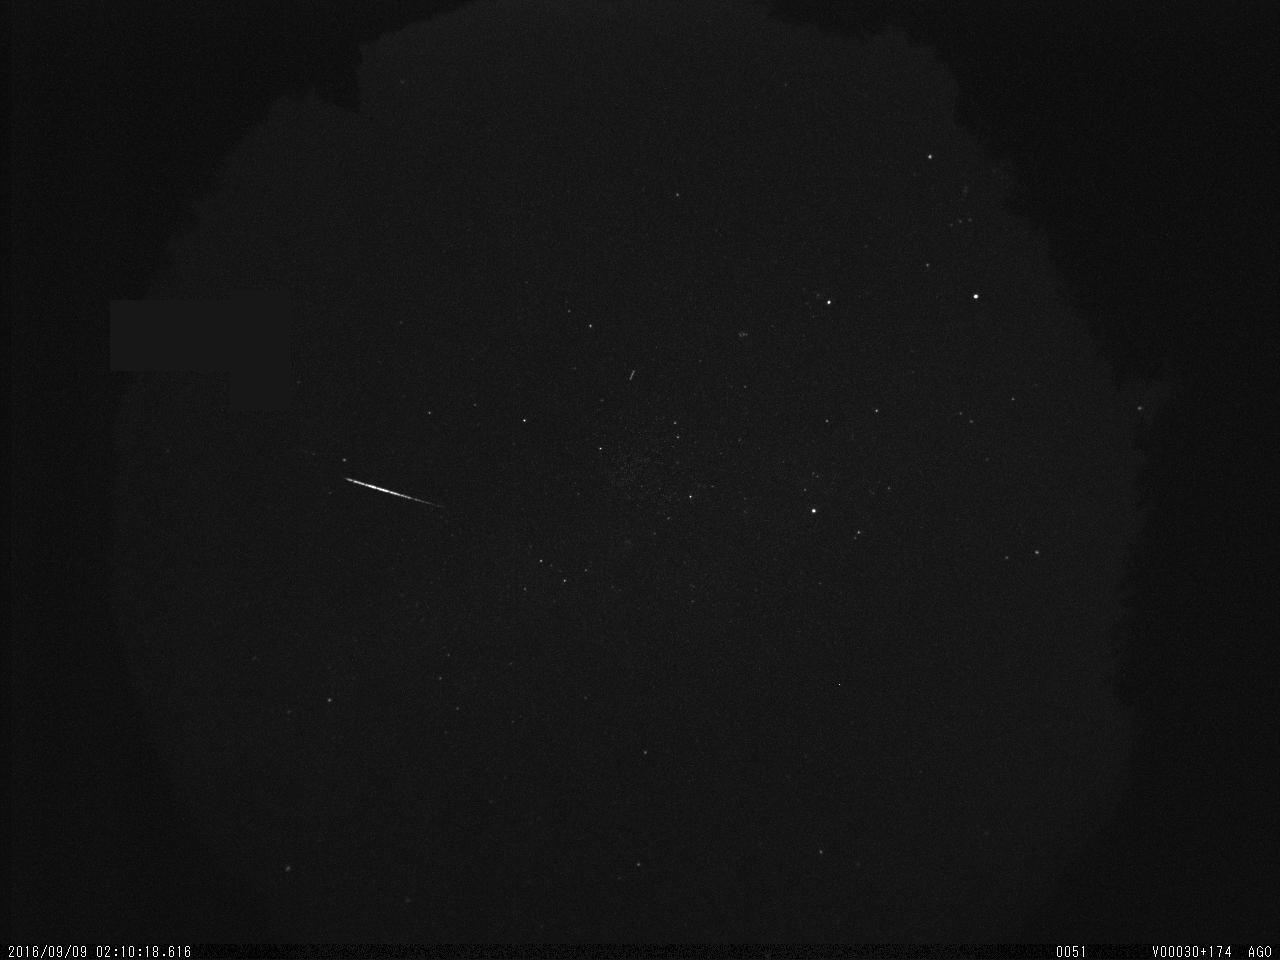meteor: (335, 444, 445, 557)
